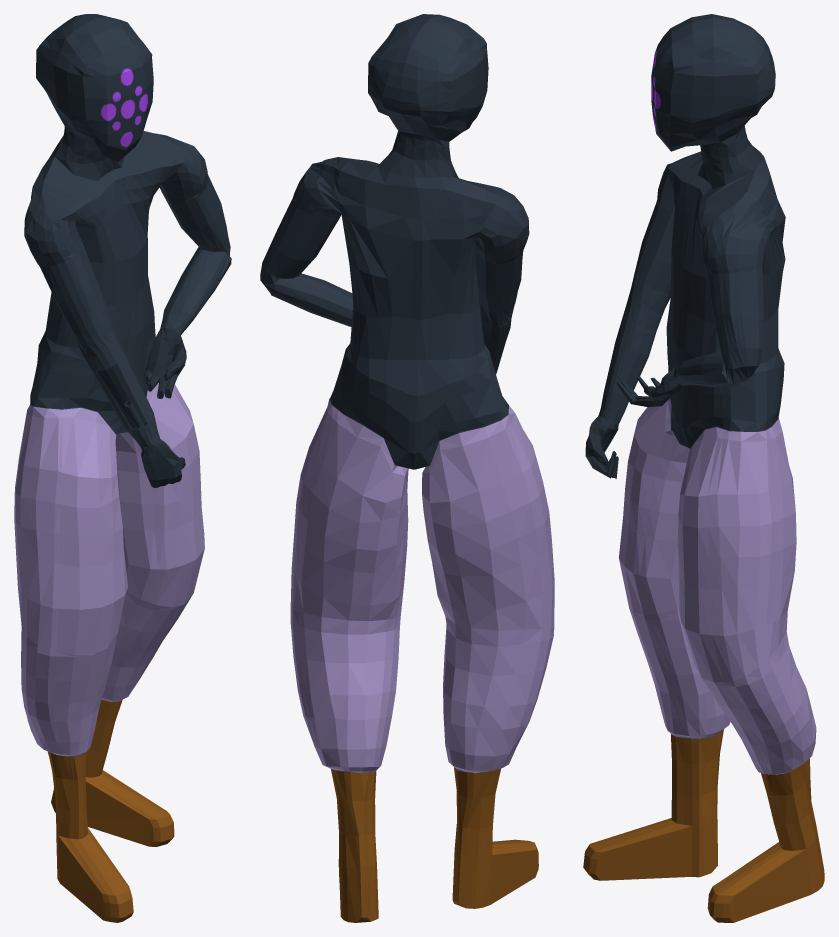
Rendered from Oracle_WB_000002.obj.
The picture shows the model from 3 angles, left to right: view 1: azimuth 30°, elevation 25°; view 2: azimuth 150°, elevation 25°; view 3: azimuth 270°, elevation 25°; orthographic projection. The views are drawn at different scales.
Visible parts, largest first — view 1: Cube; view 2: Cube; view 3: Cube.
Boxes of the visible parts, box(x1,y1,x2,y2) form: Cube: box(14, 14, 231, 922); Cube: box(260, 14, 554, 922); Cube: box(583, 14, 824, 922).
Bounding box in the file's own units: 1.15 × 3.93 × 0.9844.
